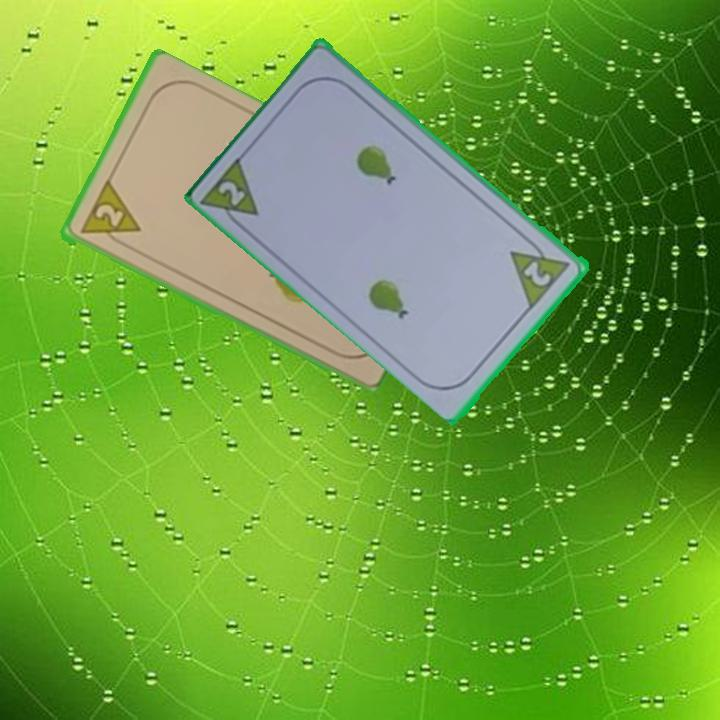2p: (198, 151, 263, 235), (75, 179, 143, 251), (520, 257, 555, 290)
